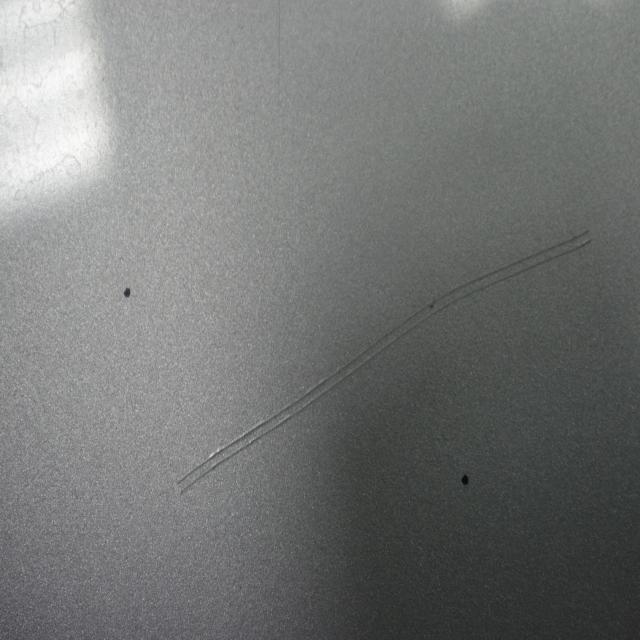dirt: (120, 287, 134, 299), (459, 471, 470, 486)
scratch: (170, 222, 597, 502)
water marks: (6, 97, 88, 216), (15, 19, 66, 90)
